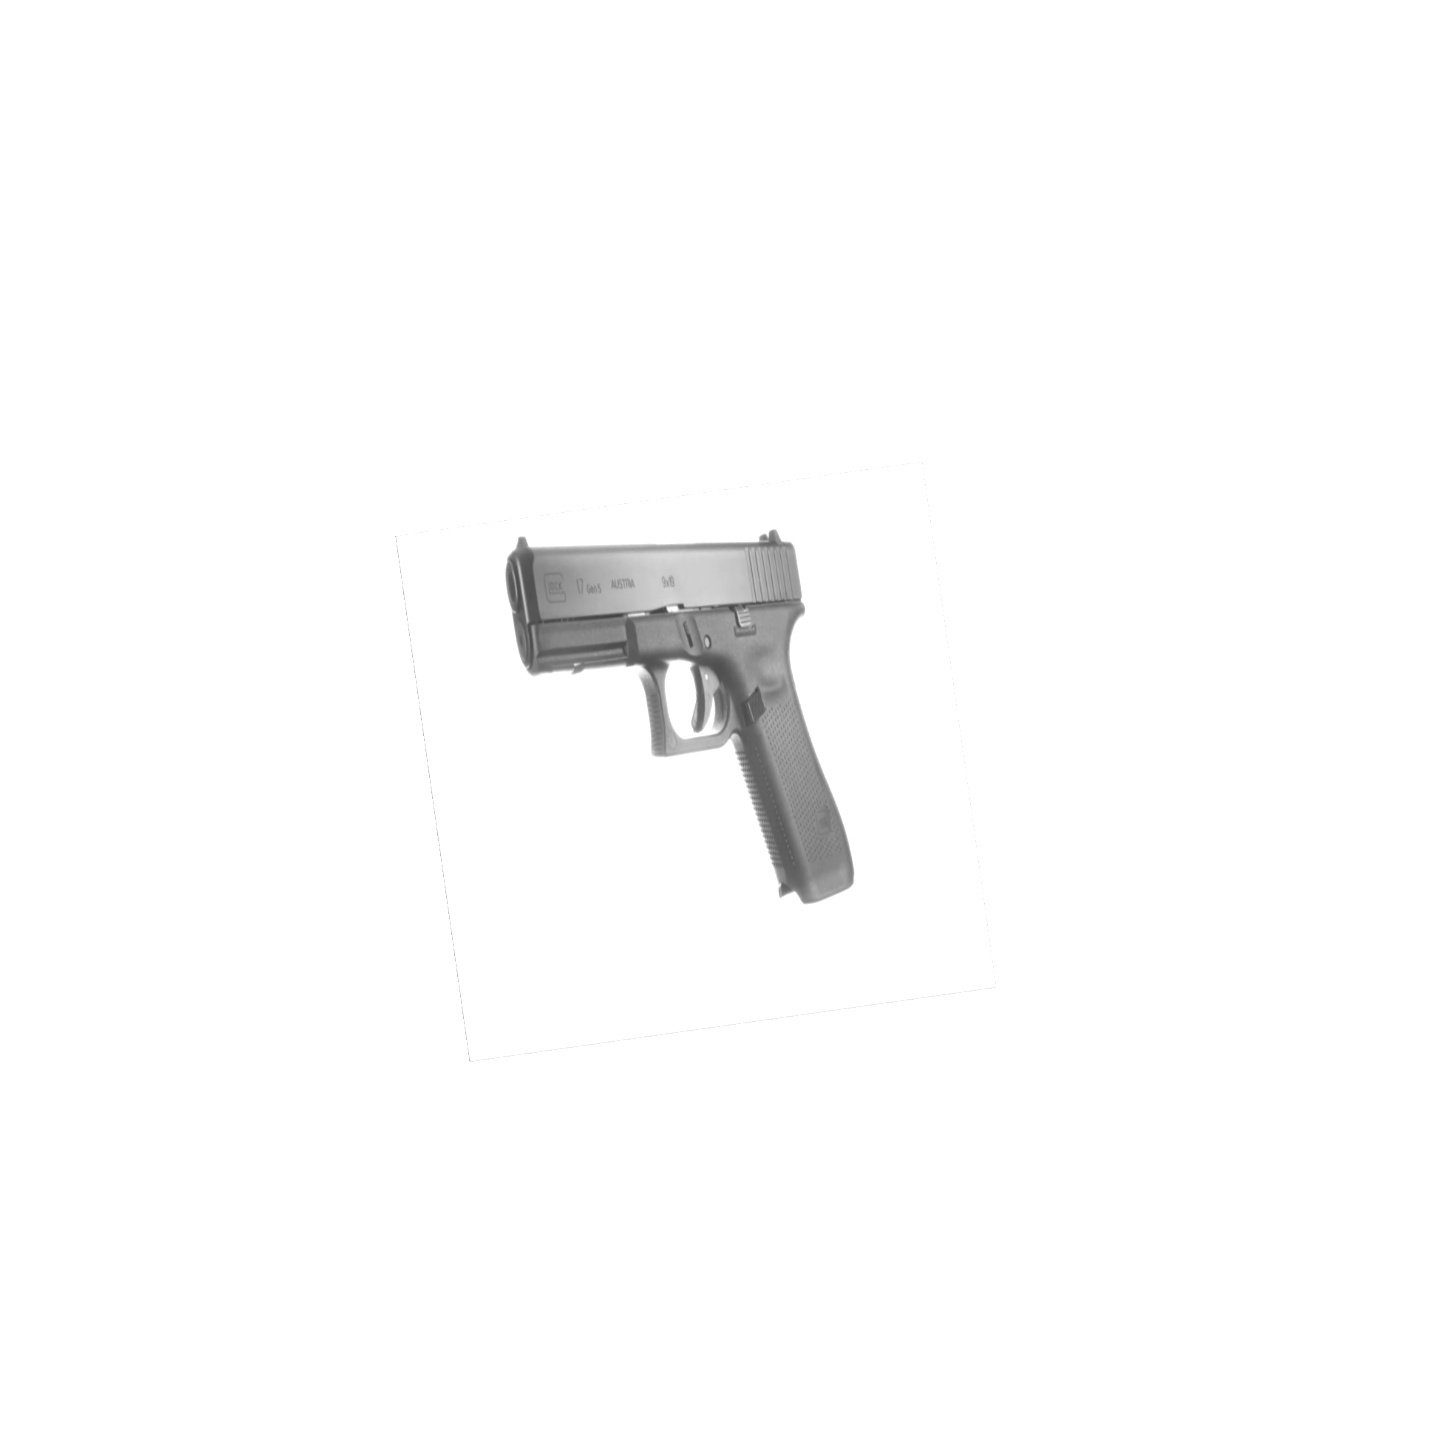gun: (493, 514, 863, 910)
